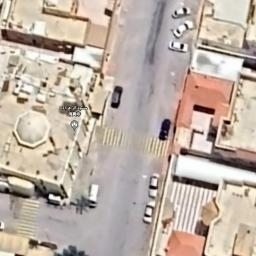sedan: (172, 20, 195, 39), (109, 83, 123, 111), (142, 200, 156, 225), (167, 40, 190, 54), (148, 174, 160, 200), (159, 118, 171, 142), (172, 6, 192, 18)
van: (87, 182, 101, 210)
